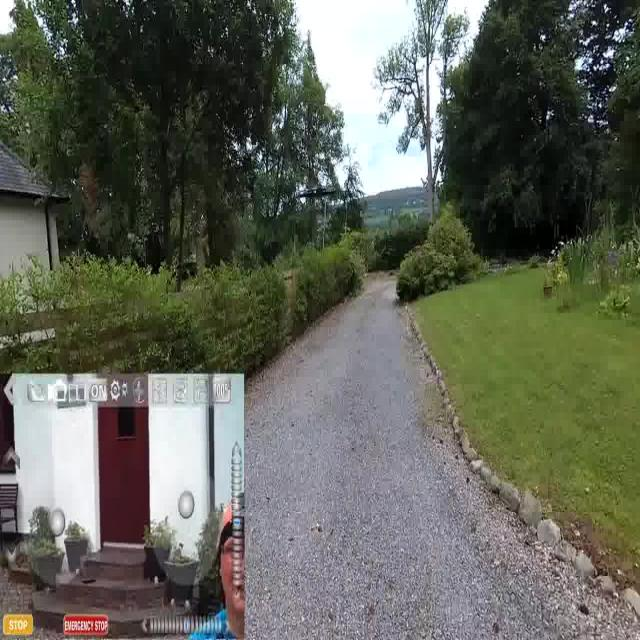drones: (286, 181, 354, 210)
